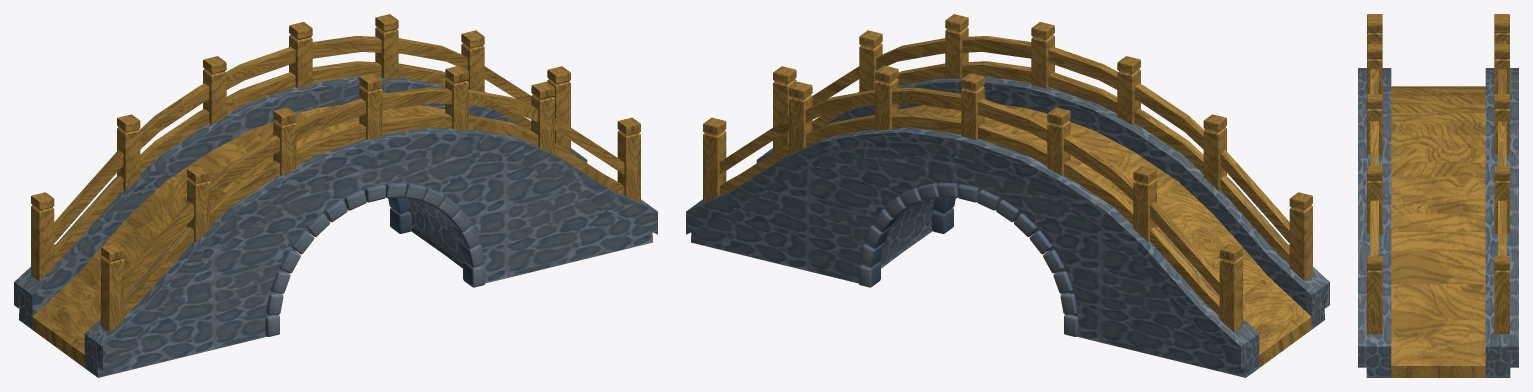
Rendered from Bridge.glb.
The picture shows the model from 3 angles, left to right: view 1: azimuth 30°, elevation 25°; view 2: azimuth 150°, elevation 25°; view 3: azimuth 270°, elevation 25°; orthographic projection. The views are drawn at different scales.
Parts seen in each view (by area): view 1: Cube.103; view 2: Cube.103; view 3: Cube.103.
Part boxes in pixels (x1,y1,x2,y2): Cube.103: (14,14,657,377); Cube.103: (686,14,1329,377); Cube.103: (1358,14,1518,377).
Bounding box in the file's own units: 23.54 × 9.28 × 6.52.
2 materials, 2 textured.
